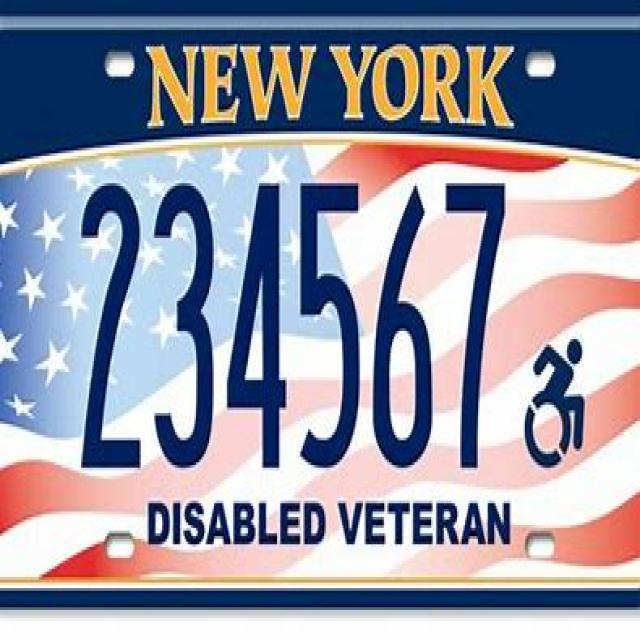car-handicap-placard: (523, 334, 586, 472)
